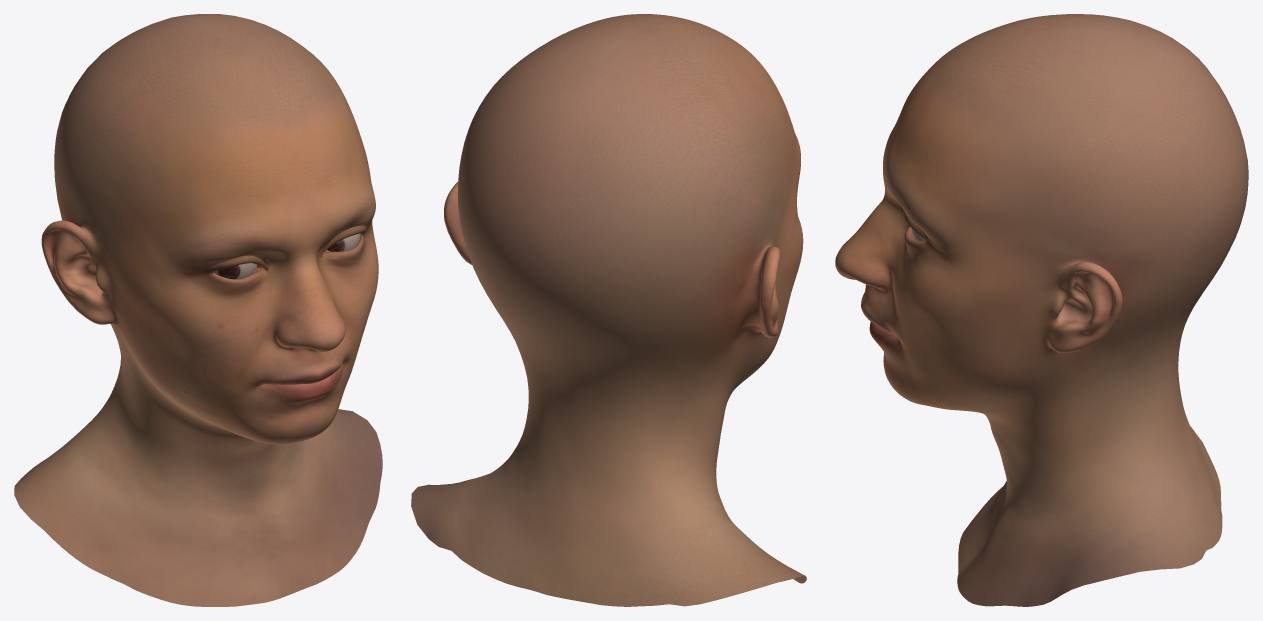
The picture shows the model from 3 angles, left to right: view 1: azimuth 30°, elevation 25°; view 2: azimuth 150°, elevation 25°; view 3: azimuth 270°, elevation 25°; orthographic projection. The views are drawn at different scales.
Parts seen in each view (by area): view 1: Registered head; view 2: Registered head; view 3: Registered head.
Part boxes in pixels (x1,y1,x2,y2): Registered head: (14, 14, 382, 606); Registered head: (411, 14, 806, 606); Registered head: (835, 14, 1248, 606).
Bounding box in the file's own units: 1.26 × 1.83 × 1.26.
Materials: 3 (3 with a texture image).
